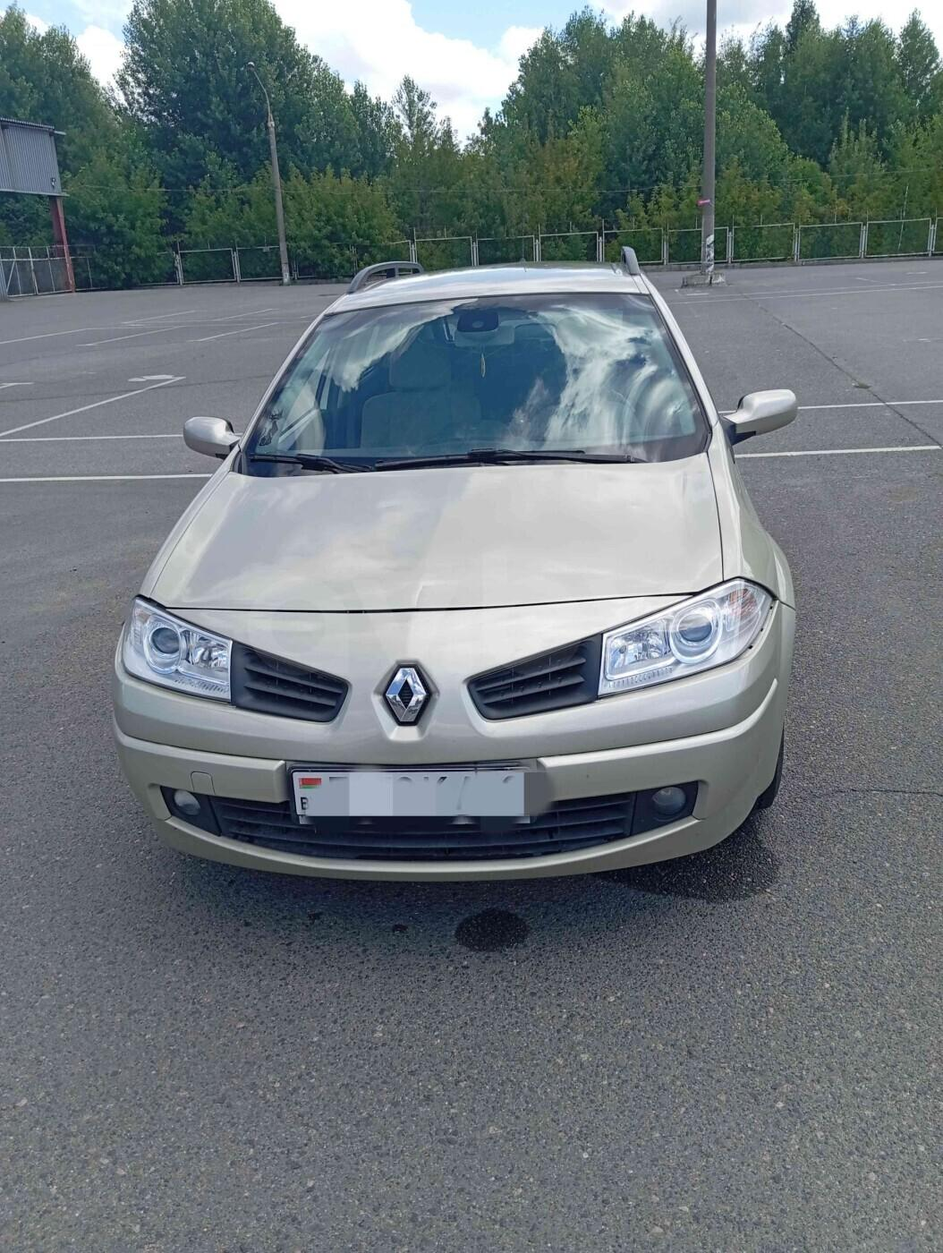Megane_2005-2009: (111, 258, 814, 915)
